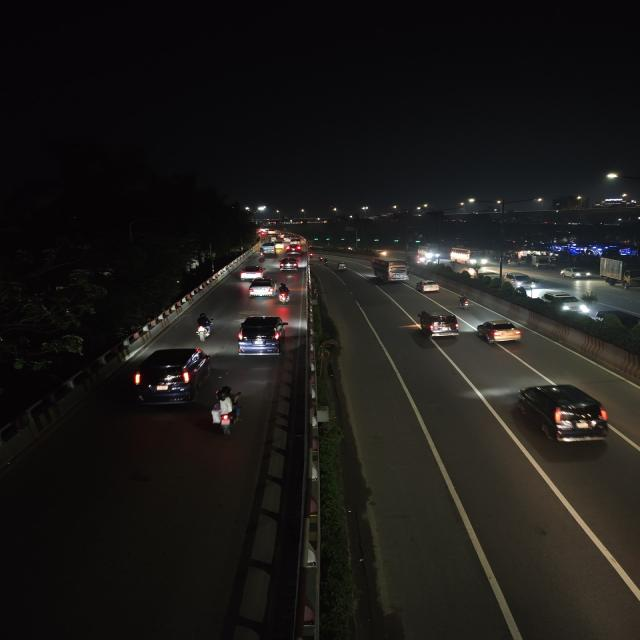bus: (370, 258, 410, 284), (450, 246, 487, 268), (416, 242, 440, 262)
car: (509, 380, 619, 448), (129, 345, 214, 409), (232, 314, 290, 356), (416, 308, 462, 339), (474, 318, 524, 345), (539, 290, 588, 314), (592, 307, 640, 331), (246, 278, 276, 300), (504, 271, 538, 289), (560, 265, 592, 281), (237, 265, 266, 280), (278, 256, 301, 271), (418, 279, 441, 294), (259, 243, 280, 255), (284, 244, 303, 254)
cng: (335, 262, 349, 272)
motorcycle: (207, 384, 246, 437), (192, 312, 217, 342), (275, 283, 292, 305), (456, 294, 474, 311), (256, 253, 266, 265), (320, 256, 330, 266)
truck: (599, 254, 640, 290), (530, 256, 552, 269)
